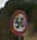limite 50: (10, 9, 27, 35)
